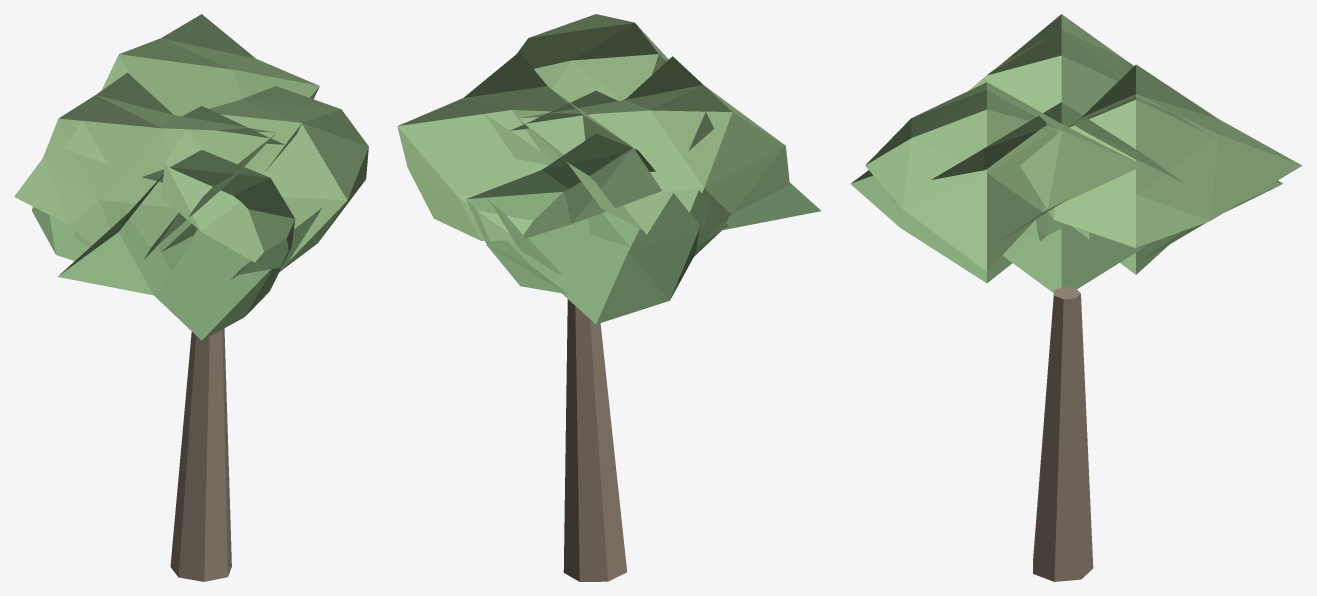
File: broadleaf_v29.glb
3 views of the same model, side by side, from view 1: azimuth 30°, elevation 25°; view 2: azimuth 150°, elevation 25°; view 3: azimuth 270°, elevation 25° (orthographic). The views are drawn at different scales.
Parts seen in each view (by area): view 1: lod0; view 2: lod0; view 3: lod0.
Part boxes in pixels (x1,y1,x2,y2): lod0: (14, 14, 368, 581); lod0: (397, 14, 820, 581); lod0: (850, 14, 1302, 581).
Size of what is drawn, in the model's own units: 4.51 by 6.54 by 5.12.
